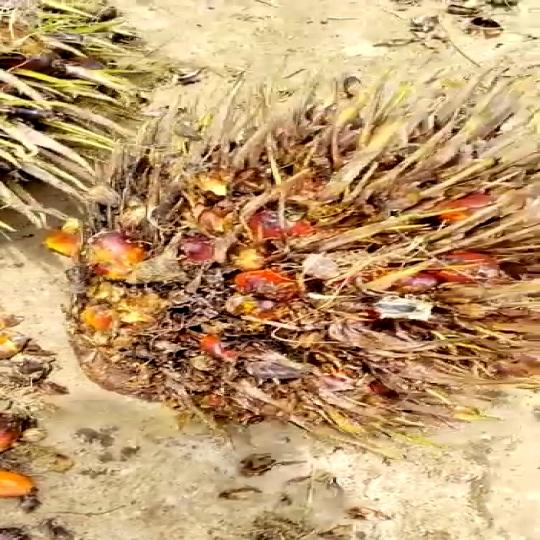terlalu masak: (57, 58, 540, 453)
